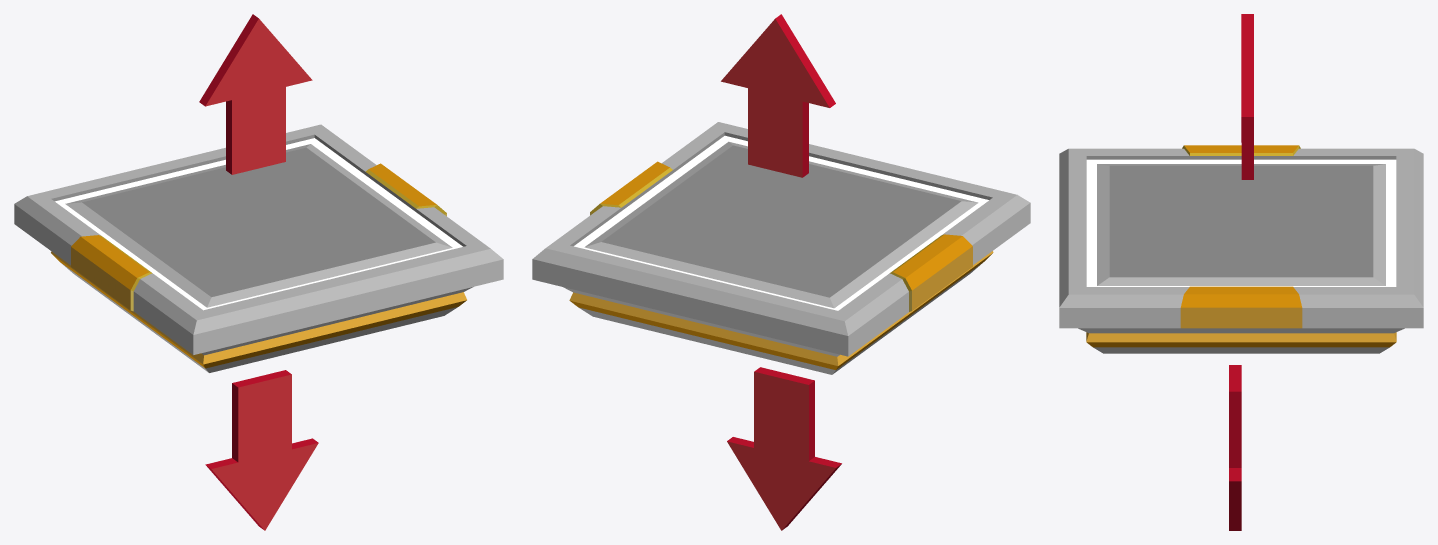
File: Vertical_Platform.glb
3 renders of one model, left to right at view 1: azimuth 30°, elevation 25°; view 2: azimuth 150°, elevation 25°; view 3: azimuth 270°, elevation 25°, orthographic.
Parts seen in each view (by area): view 1: Platform, Plane, Plane.001; view 2: Platform, Plane, Plane.001; view 3: Platform, Plane, Plane.001.
Boxes of the visible parts, <box> form: Platform: <box>14,124,503,372</box>; Plane: <box>205,370,318,530</box>; Plane.001: <box>199,14,312,174</box>; Platform: <box>532,122,1030,374</box>; Plane: <box>727,367,841,530</box>; Plane.001: <box>721,14,835,177</box>; Platform: <box>1059,145,1423,353</box>; Plane: <box>1229,365,1241,530</box>; Plane.001: <box>1241,14,1253,179</box>.
Size of the model in its own units: 2.04 by 3.13 by 2.
2 materials, 1 textured.
